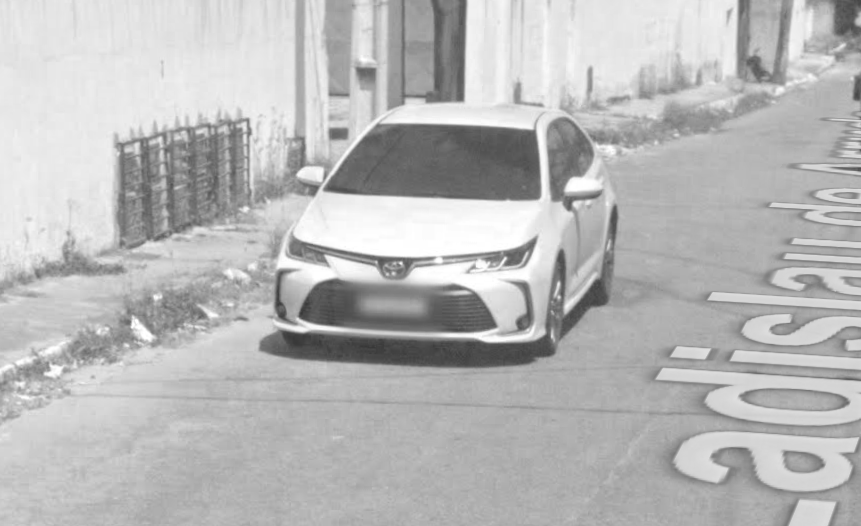car: (265, 91, 627, 388)
